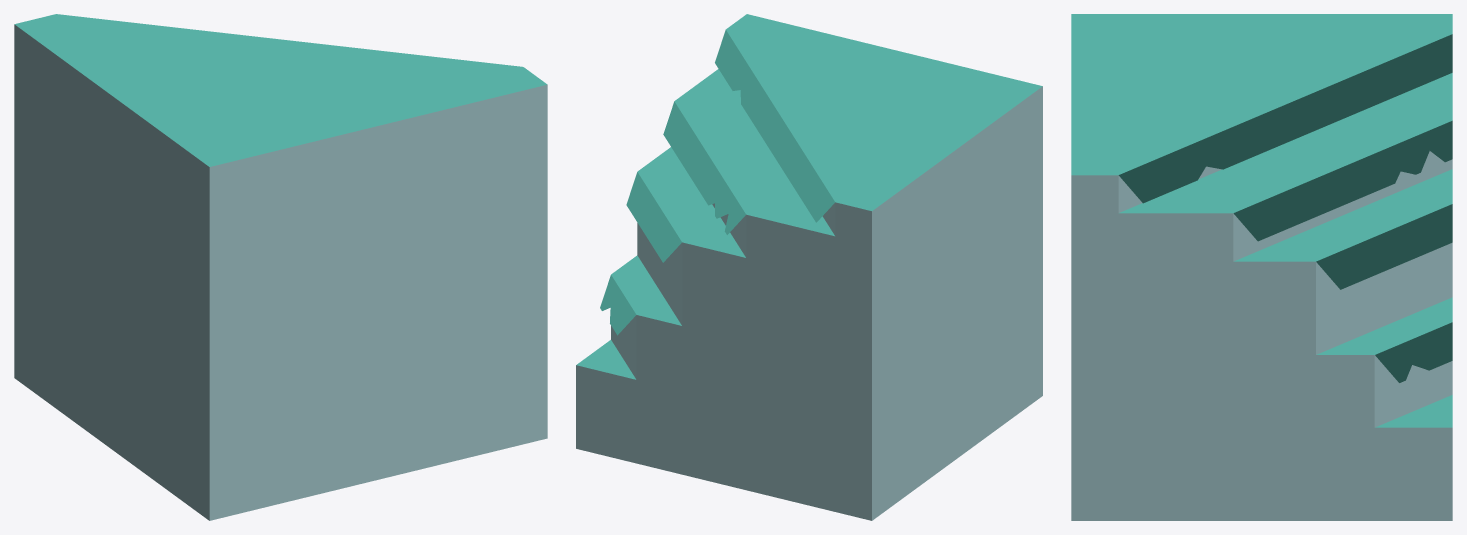
File: cliffGrey_stepsCornerInner.obj
The picture shows the model from 3 angles, left to right: view 1: azimuth 30°, elevation 25°; view 2: azimuth 150°, elevation 25°; view 3: azimuth 270°, elevation 25°; orthographic projection. The views are drawn at different scales.
Visible parts, largest first — view 1: cliffGrey_stepsCornerInner; view 2: cliffGrey_stepsCornerInner; view 3: cliffGrey_stepsCornerInner.
Boxes of the visible parts, x1,y1,x2,y2 form: cliffGrey_stepsCornerInner: (14, 14, 547, 520); cliffGrey_stepsCornerInner: (576, 14, 1042, 520); cliffGrey_stepsCornerInner: (1071, 14, 1452, 520).
Size of the model in its own units: 10 by 10 by 10.
